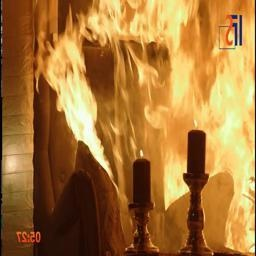fire: (26, 1, 253, 256)
